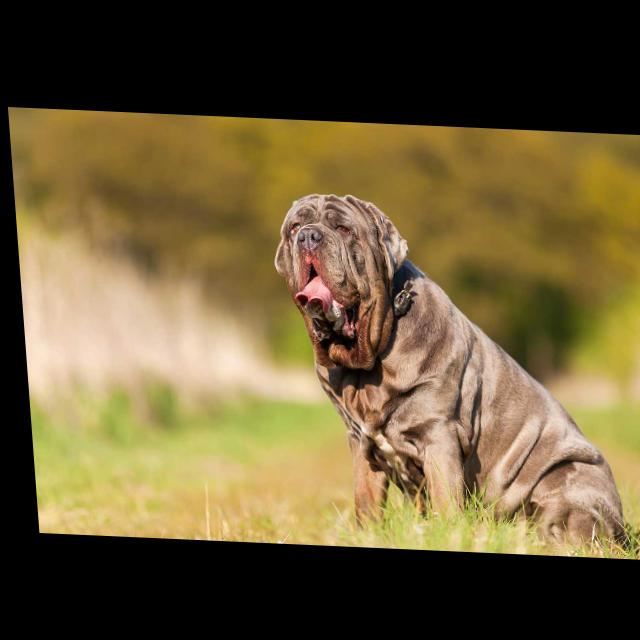mastino_napoletano: (267, 188, 630, 552)
